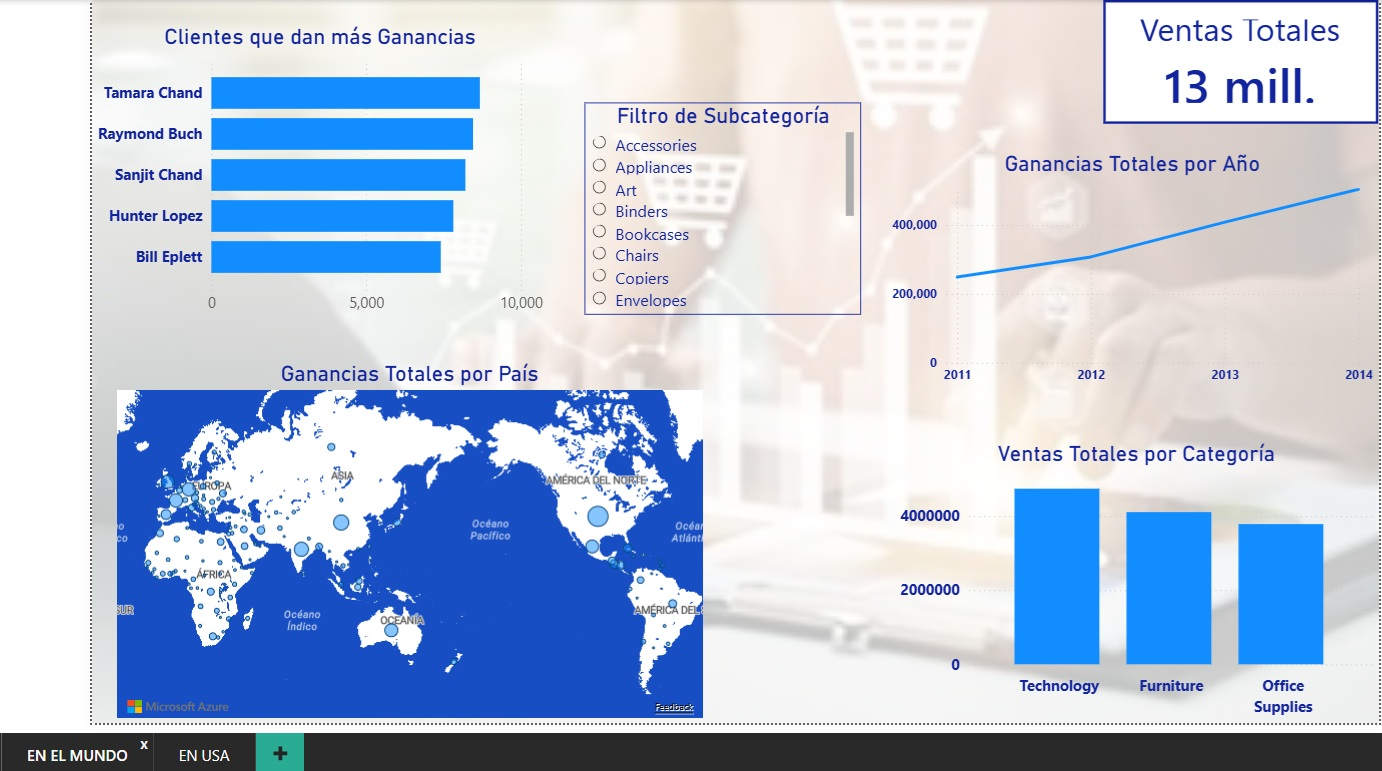

This screenshot's page, from the dashboard's own definition file:
{"tool":"powerbi","page":{"name":"EN EL MUNDO","canvas":[1280,720],"ordinal":0},"visuals":[{"type":"cardVisual","fields":{"Data":["Sum(SuperStoreOrders.sales)"]},"box":[1005.8,0,273.9,123.2],"z":0},{"type":"clusteredColumnChart","title":"Ventas Totales por Categoría","fields":{"Category":["SuperStoreOrders.category"],"Y":["Sum(SuperStoreOrders.sales)"]},"box":[798.6,439.1,481.2,281.2],"z":1000},{"type":"lineChart","title":"Ganancias Totales por Año","fields":{"Category":["SuperStoreOrders.order_date.Variación.Jerarquía de fechas.Año","SuperStoreOrders.order_date.Variación.Jerarquía de fechas.Trimestre","SuperStoreOrders.order_date.Variación.Jerarquía de fechas.Mes","SuperStoreOrders.order_date.Variación.Jerarquía de fechas.Día"],"Y":["Sum(SuperStoreOrders.profit)"]},"box":[791.3,150.7,488.4,240.6],"z":2000},{"type":"azureMap","title":"Ganancias Totales por País","fields":{"Size":["Sum(SuperStoreOrders.profit)"],"Category":["SuperStoreOrders.country"]},"box":[19.6,359.5,592.7,359.5],"z":3000},{"type":"clusteredBarChart","title":"Clientes que dan más Ganancias ","fields":{"Category":["SuperStoreOrders.customer_name"],"Y":["Sum(SuperStoreOrders.profit)"]},"box":[0,23.6,454,298.6],"z":4000},{"type":"listSlicer","title":"Filtro de Subcategoría","fields":{"Values":["SuperStoreOrders.sub_category"]},"box":[490.1,102,274.9,211.5],"z":5000}]}

Visuals, with their boxes on the page's 1280x720 design canvas (x1, y1, x2, y2). These are canvas units, not pixel positions in the 1382x771 screenshot, which may show the page scaled, cropped or inside an application window:
cardVisual - Sum(SuperStoreOrders.sales): x1=1006 y1=0 x2=1280 y2=123
"Ventas Totales por Categoría" clusteredColumnChart: x1=799 y1=439 x2=1280 y2=720
"Ganancias Totales por Año" lineChart: x1=791 y1=151 x2=1280 y2=391
"Ganancias Totales por País" azureMap: x1=20 y1=360 x2=612 y2=719
"Clientes que dan más Ganancias " clusteredBarChart: x1=0 y1=24 x2=454 y2=322
"Filtro de Subcategoría" listSlicer: x1=490 y1=102 x2=765 y2=314
